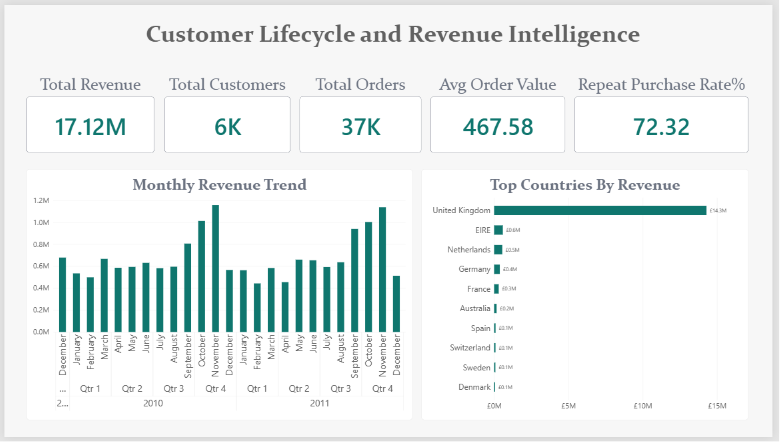

The page's visual inventory and layout, read from the dashboard file:
{"tool":"powerbi","page":{"name":"Buisness Overview","canvas":[1920,1080],"ordinal":0},"visuals":[{"type":"textbox","box":[222,34.2,1498,85.4],"z":0},{"type":"cardVisual","title":"Total Revenue","fields":{"Data":["Sum(kpi_summary (2).total_revenue)"]},"box":[55,172.5,320,197.5],"z":1000},{"type":"cardVisual","title":"Avg Order Value","fields":{"Data":["Sum(kpi_summary (2).avg_order_value)"]},"box":[1065,172.5,337.5,197.5],"z":2000},{"type":"cardVisual","title":"Total Orders ","fields":{"Data":["Sum(kpi_summary (2).total_orders)"]},"box":[737.5,172.5,305,197.5],"z":3000},{"type":"cardVisual","title":"Total Customers","fields":{"Data":["Sum(kpi_summary (2).total_customers)"]},"box":[400,172.5,315,197.5],"z":4000},{"type":"lineStackedColumnComboChart","title":"Monthly Revenue Trend","fields":{"Category":["monthly_revenue.invoice_yearmonth.Variation.Date Hierarchy.Year","monthly_revenue.invoice_yearmonth.Variation.Date Hierarchy.Quarter","monthly_revenue.invoice_yearmonth.Variation.Date Hierarchy.Month","monthly_revenue.invoice_yearmonth.Variation.Date Hierarchy.Day"],"Y":["Sum(monthly_revenue.monthly_revenue)"]},"box":[55,410,965,627.5],"z":5000},{"type":"barChart","title":"Top Countries By Revenue","fields":{"Category":["country_revenue.country"],"Y":["Sum(country_revenue.total_revenue)"]},"box":[1042.5,410,817.5,627.5],"z":6000},{"type":"cardVisual","title":"Repeat Purchase Rate%","fields":{"Data":["Sum(kpi_summary (2).repeat_purchase_rate_pct)"]},"box":[1425,172.5,435,197.5],"z":7000}]}

Visuals, with their boxes in screenshot pixels (x1, y1, x2, y2), scaled from the page's 1920x1080 canvas onto the 780x442 screenshot:
textbox: {"left": 90, "top": 14, "right": 699, "bottom": 49}
"Total Revenue" cardVisual: {"left": 22, "top": 71, "right": 152, "bottom": 151}
"Avg Order Value" cardVisual: {"left": 433, "top": 71, "right": 570, "bottom": 151}
"Total Orders " cardVisual: {"left": 300, "top": 71, "right": 424, "bottom": 151}
"Total Customers" cardVisual: {"left": 162, "top": 71, "right": 290, "bottom": 151}
"Monthly Revenue Trend" lineStackedColumnComboChart: {"left": 22, "top": 168, "right": 414, "bottom": 425}
"Top Countries By Revenue" barChart: {"left": 424, "top": 168, "right": 756, "bottom": 425}
"Repeat Purchase Rate%" cardVisual: {"left": 579, "top": 71, "right": 756, "bottom": 151}
